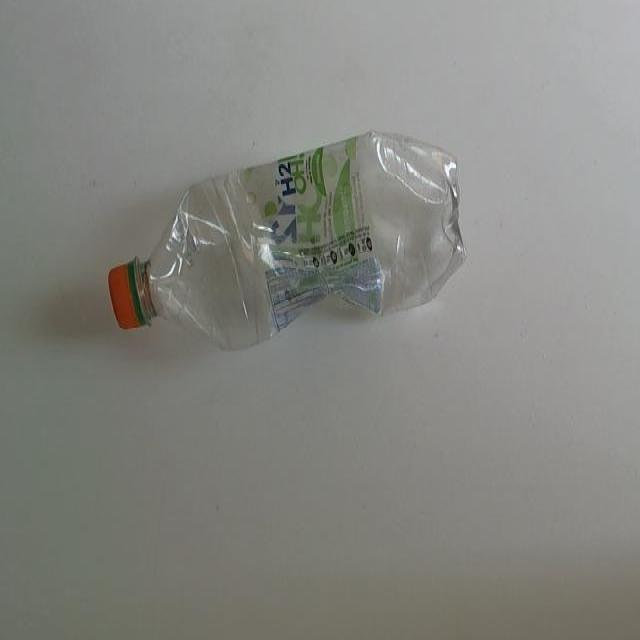defect: (104, 126, 470, 357)
